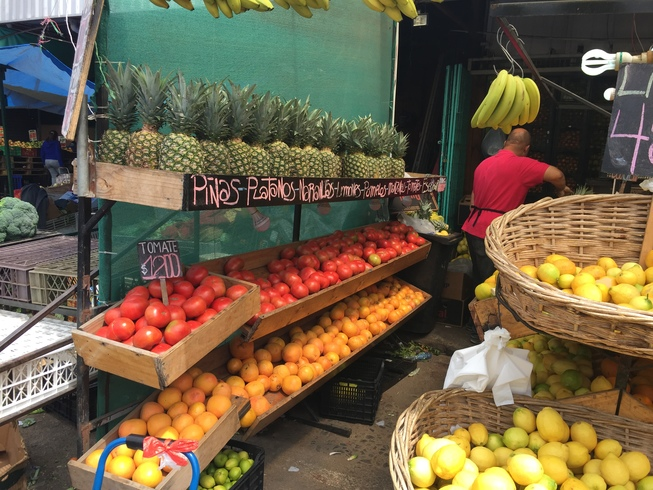precio: (129, 235, 190, 286)
